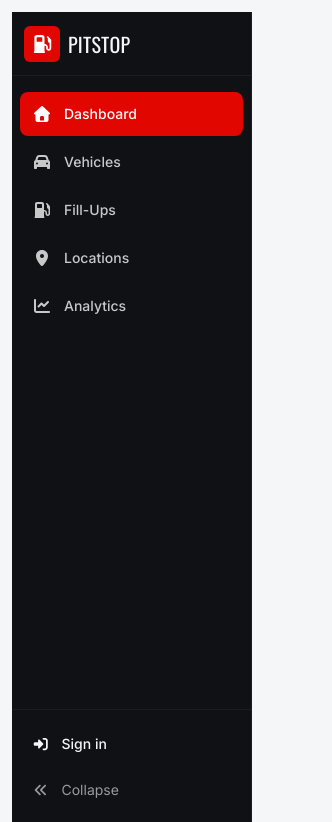
NavigationBar › toggles desktop sidebar collapse
The width and height of the screenshot is (332, 822).
Click the button with aria-label "collapse sidebar" at (132, 790), box [20, 770, 243, 810]
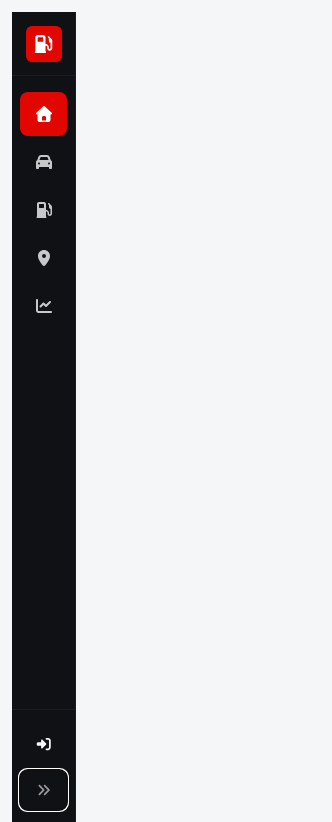
Expected: the button named "expand sidebar" is shown, [20, 770, 67, 810]
